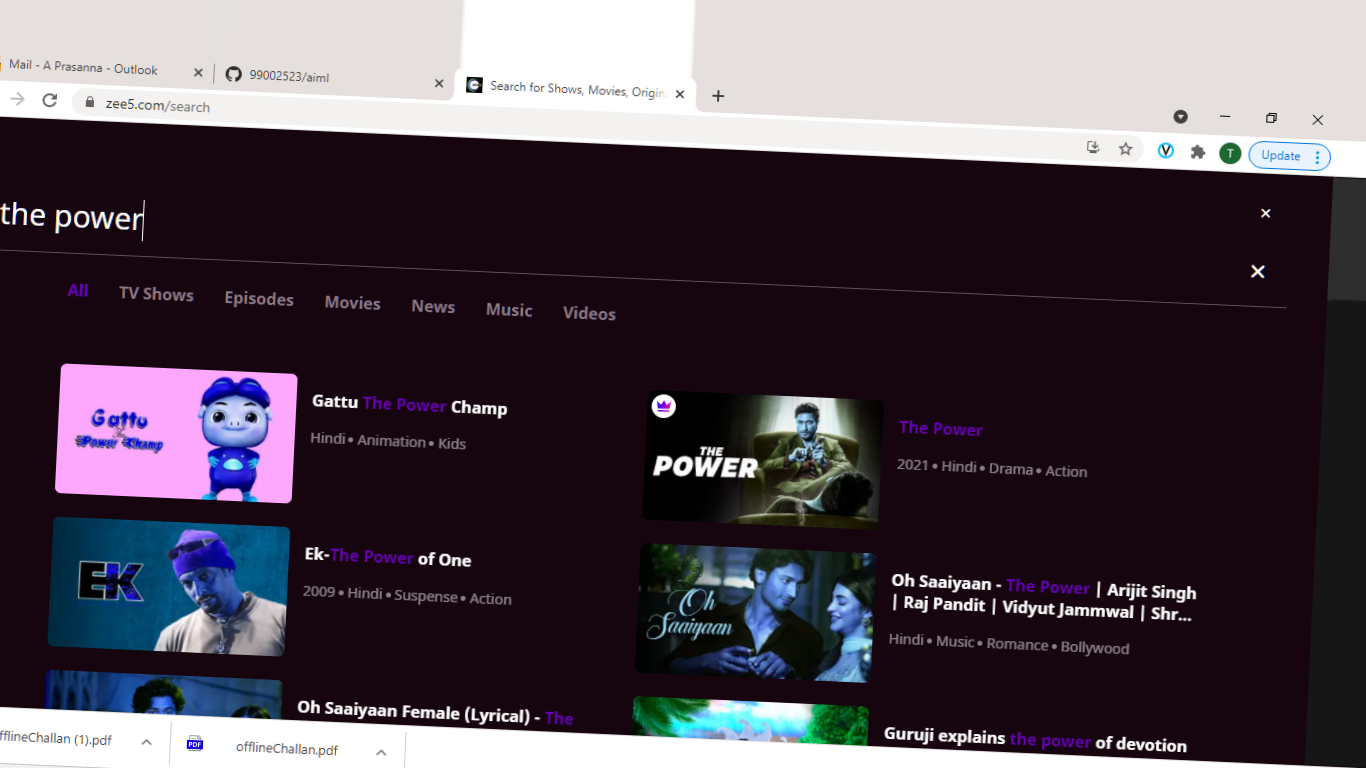searchtextbox: (5, 177, 1298, 312)
